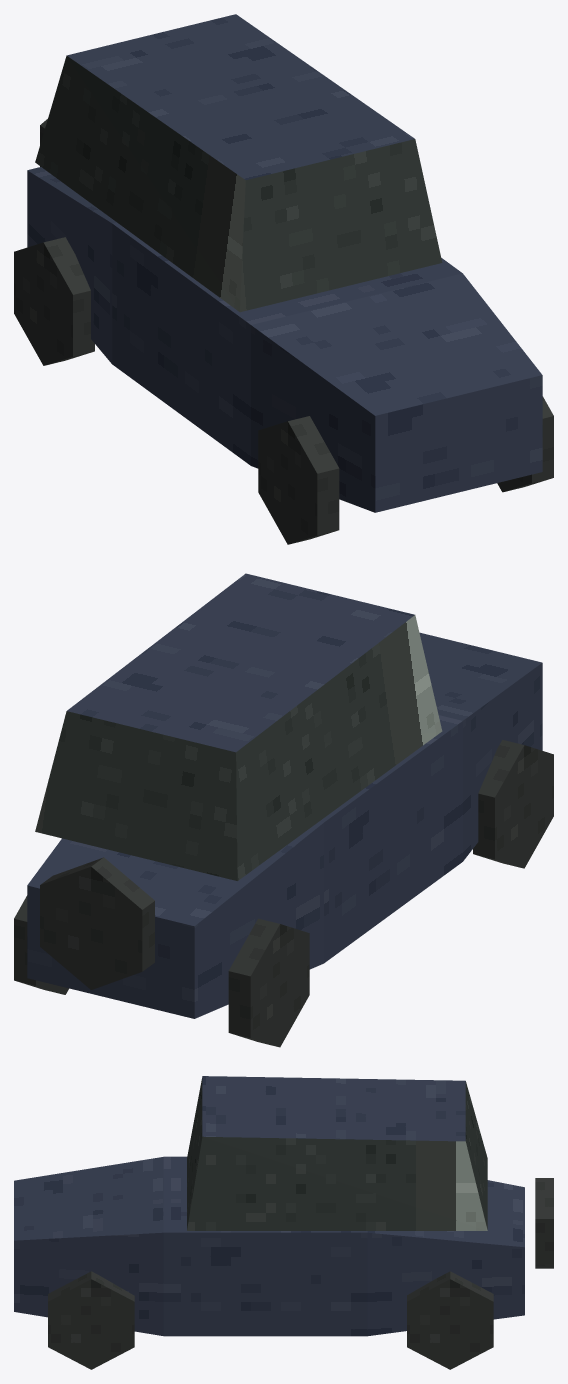
Rendered from alderwick-1928-far.glb.
3 views of the same model, one above another, from view 1: azimuth 30°, elevation 25°; view 2: azimuth 150°, elevation 25°; view 3: azimuth 270°, elevation 25° (orthographic). The views are drawn at different scales.
Visible parts, largest first — view 1: body, Distance tyre.001, Distance tyre.003, Distance tyre; view 2: body, Distance tyre.004, Distance tyre.003, Distance tyre.001, Distance tyre.002; view 3: body, Distance tyre.002, Distance tyre, Distance tyre.004.
Boxes of the visible parts, x1,y1,x2,y2 form: body: (27, 14, 542, 512); Distance tyre.001: (258, 416, 339, 544); Distance tyre.003: (14, 237, 94, 365); Distance tyre: (497, 396, 553, 492); body: (27, 573, 542, 1018); Distance tyre.004: (40, 857, 154, 989); Distance tyre.003: (228, 918, 309, 1047); Distance tyre.001: (473, 740, 553, 868); Distance tyre.002: (14, 895, 68, 994); body: (14, 1076, 524, 1336); Distance tyre.002: (407, 1271, 493, 1369); Distance tyre: (48, 1271, 134, 1369); Distance tyre.004: (535, 1178, 553, 1268).
Bounding box in the file's own units: 1.55 × 1.89 × 4.18.
2 materials, 2 textured.
